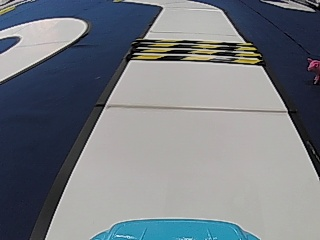bump: (147, 38, 245, 65)
